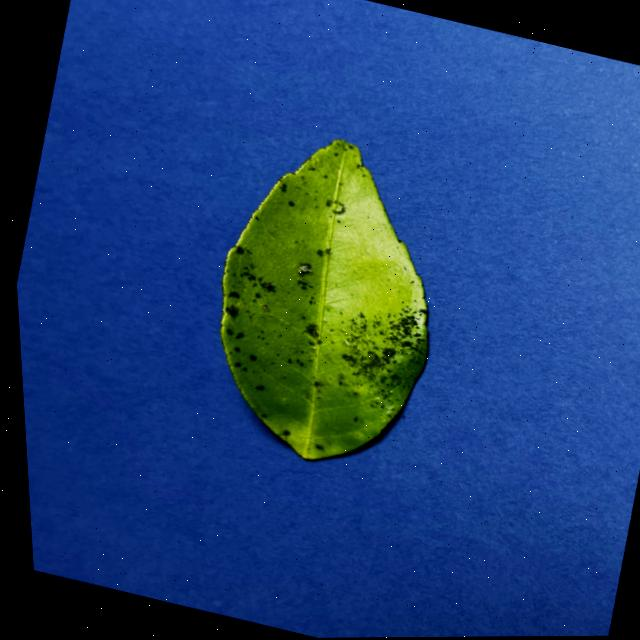sooty_mold: (221, 139, 427, 459)
